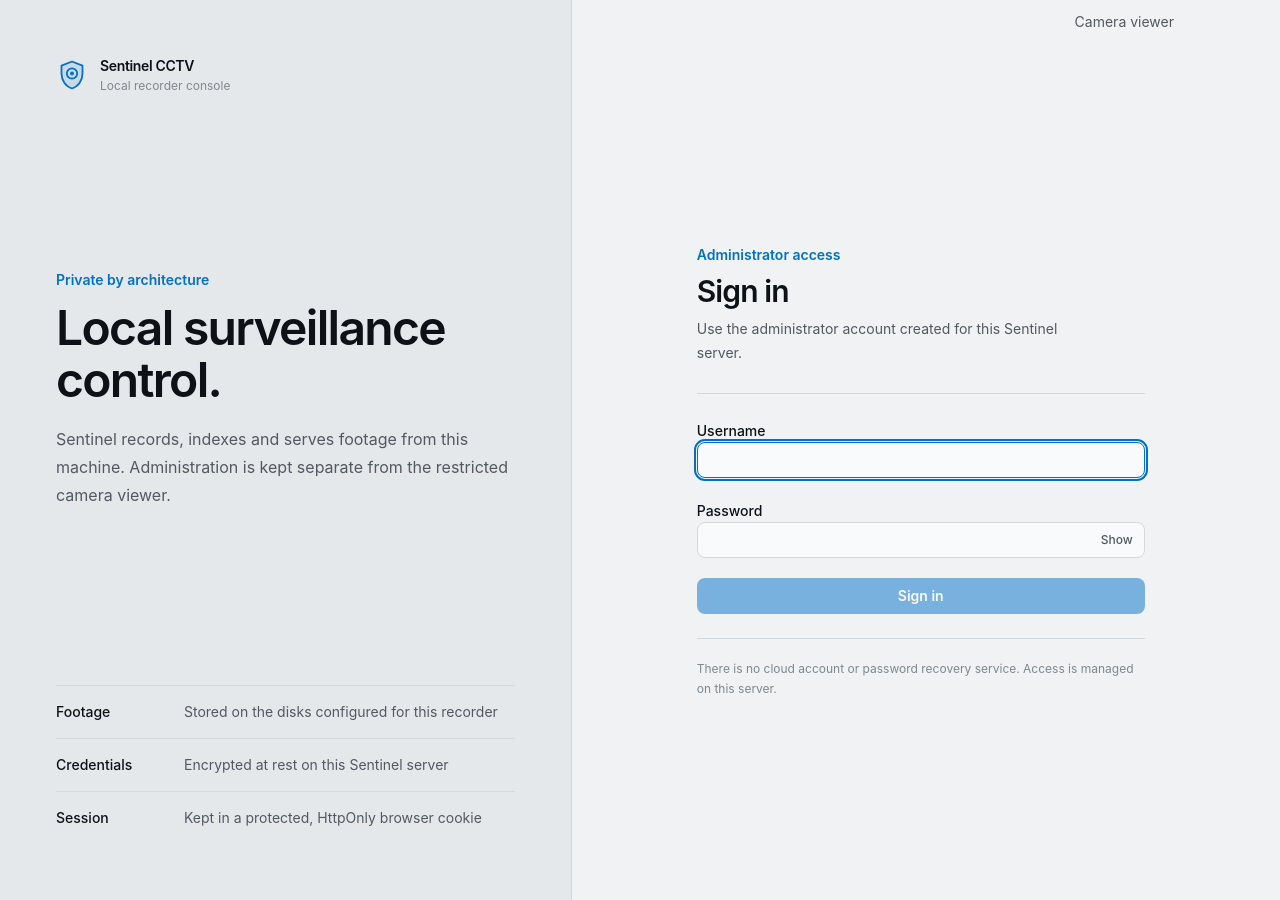
Test case: LoginPage › shows and hides the password without changing it
The image size is (1280, 900).
Step 1. Type "secret-password" into the password field labelled "Password" → (921, 540), box [697,522,1145,558]
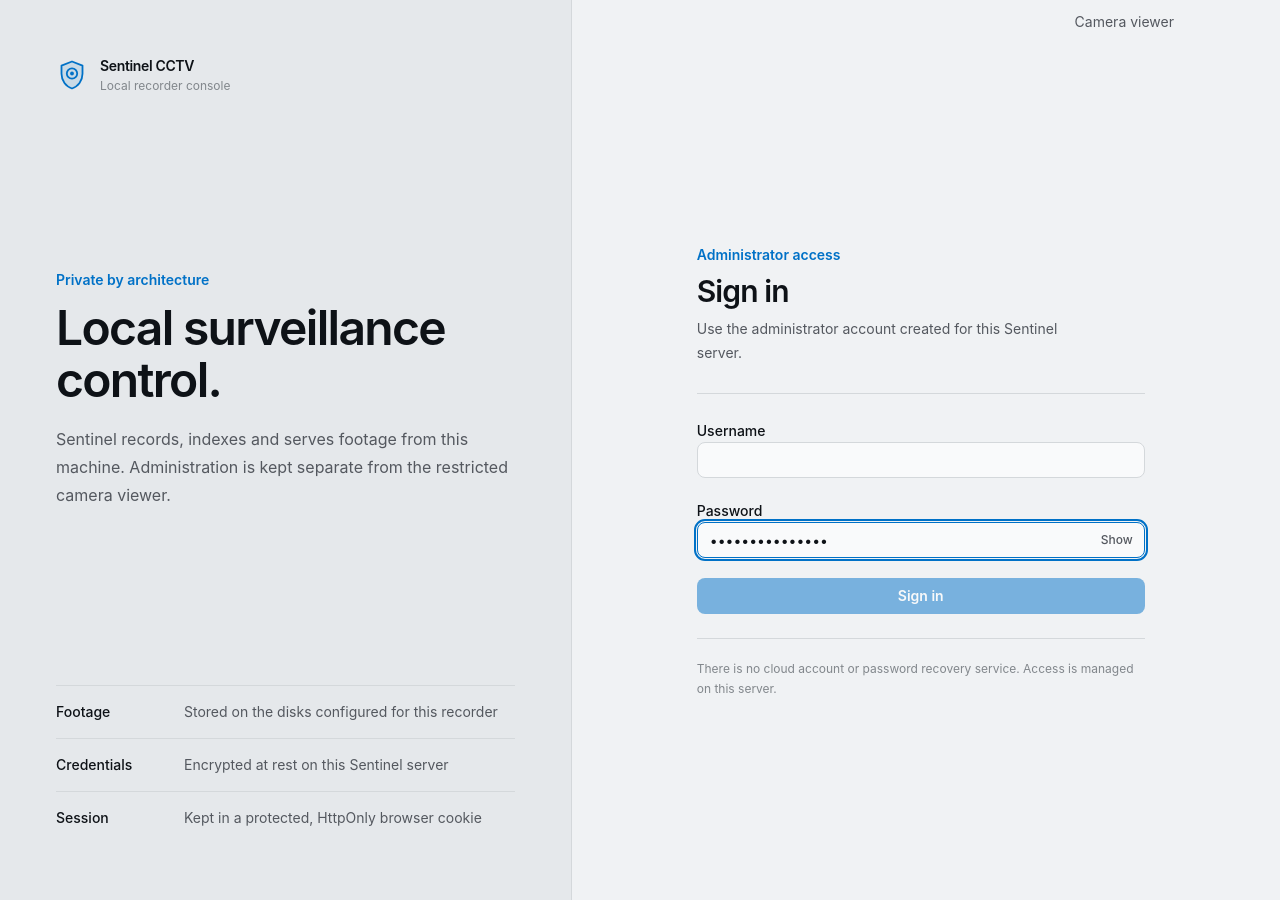
Step 2. Click the button with aria-label "Show password" → (1117, 540), box [1089,522,1145,558]
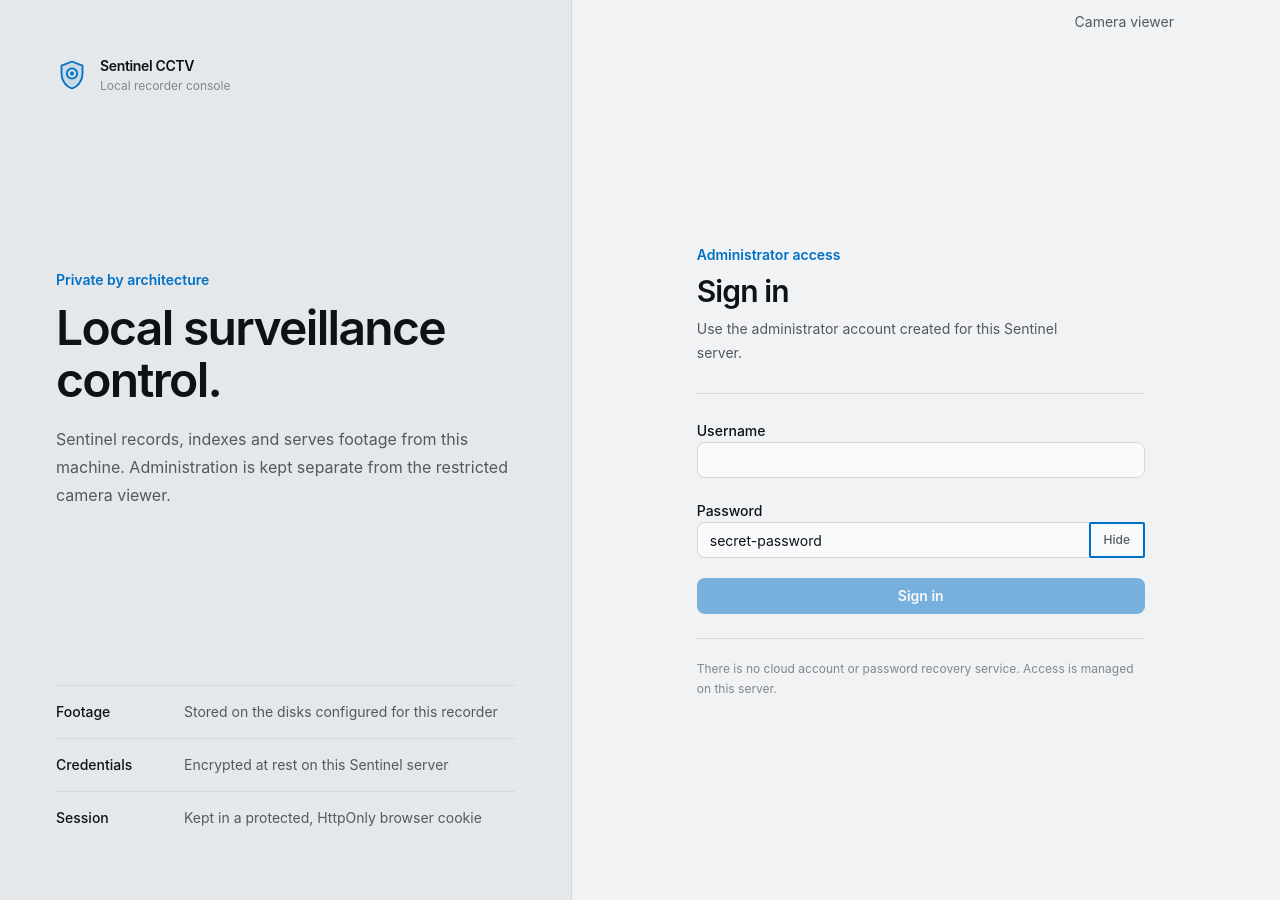
Result: the field labelled "Password" shows its text at [697,522,1145,558]
Step 3. Click the button with aria-label "Hide password" → (1117, 540), box [1089,522,1145,558]
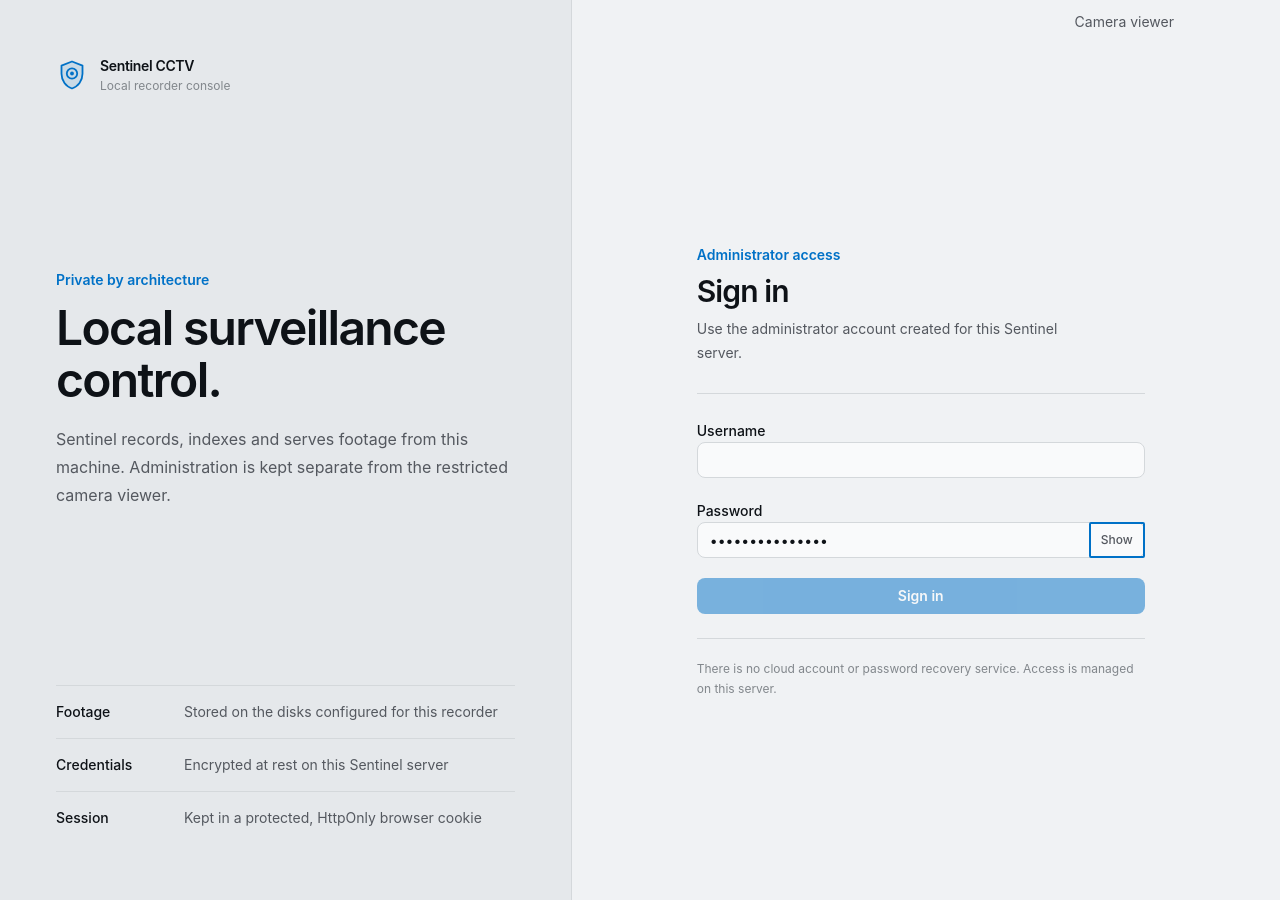
Result: the password field labelled "Password" hides its text at [697,522,1145,558]
